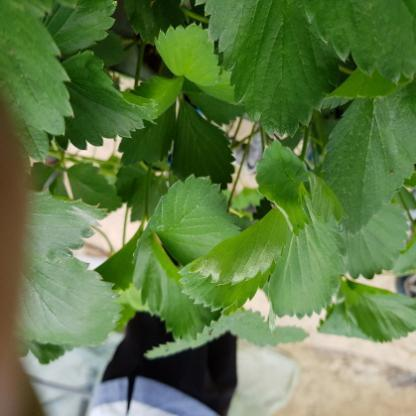Strawberry_Powdery_Mildew_Leaf: (177, 205, 290, 317)
